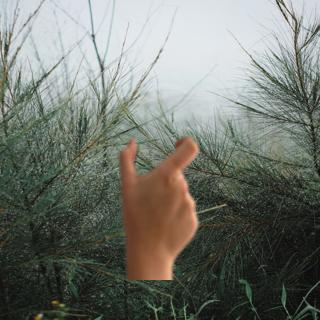Irritated: (109, 134, 211, 282)
